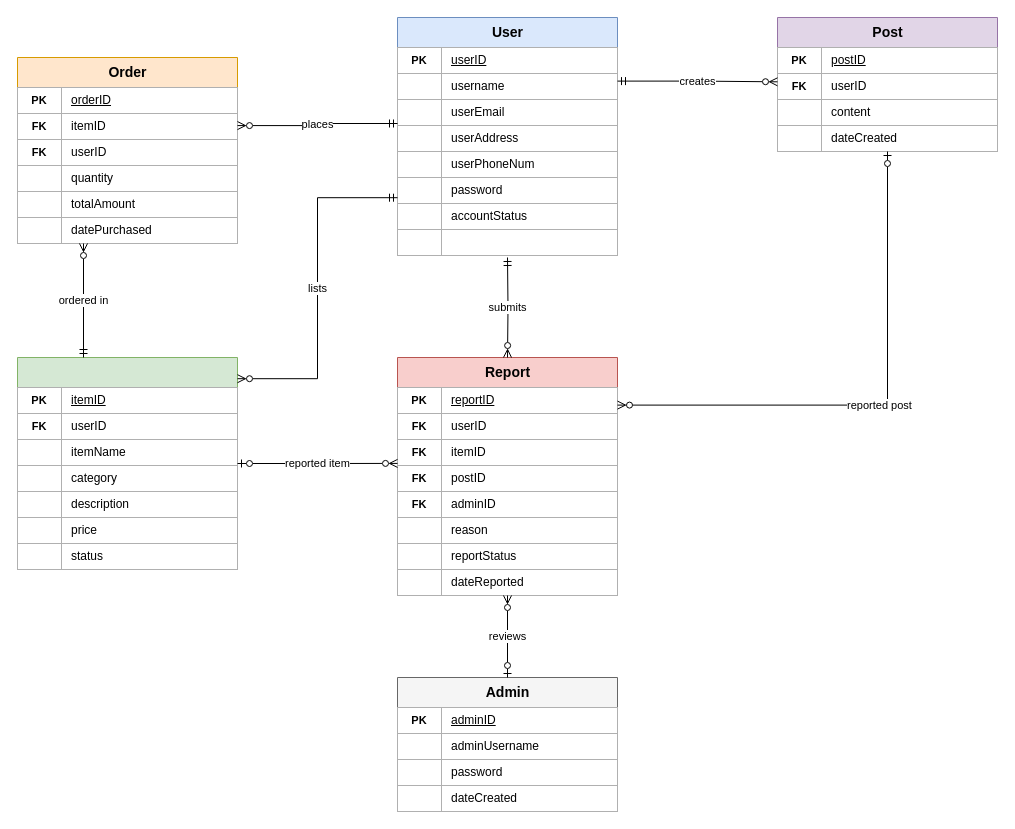
Some shapes in this 1015 by 829 pixel diagram are drawn without their labels. Each missing label, with the box of its shape:
Preloved Item: (16, 356, 238, 570)
userRole: (440, 228, 618, 256)
